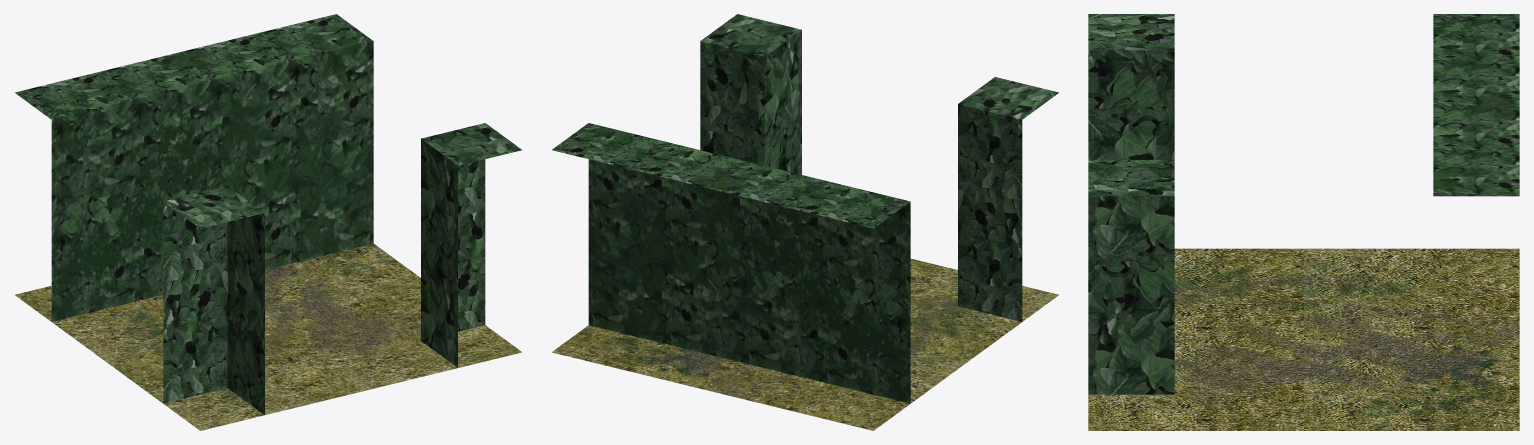
File: 4-5_T_Edge.fbx
3 renders of one model, left to right at view 1: azimuth 30°, elevation 25°; view 2: azimuth 150°, elevation 25°; view 3: azimuth 270°, elevation 25°, orthographic. The views are drawn at different scales.
Visible parts, largest first — view 1: front1; view 2: front1; view 3: front1.
Boxes of the visible parts, x1,y1,x2,y2 form: front1: (15,14,521,430); front1: (552,14,1058,430); front1: (1088,14,1519,430).
Bounding box in the file's own units: 100 × 60 × 100.
1 material, 1 textured.
